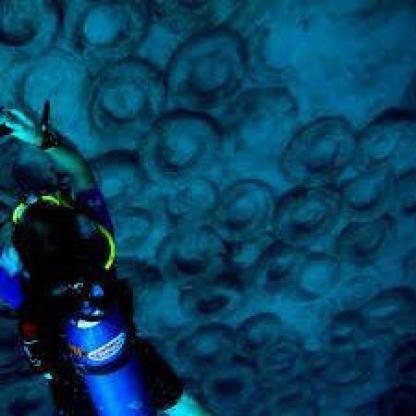tire: (168, 33, 263, 120), (150, 119, 240, 202), (87, 54, 163, 146), (274, 176, 336, 255), (170, 277, 255, 333), (161, 218, 229, 285), (205, 351, 255, 416)
